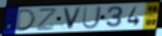3: (105, 6, 125, 29)
4: (126, 5, 141, 27)
D: (15, 8, 38, 32)
U: (82, 5, 103, 30)
V: (62, 6, 84, 31)
Z: (36, 7, 59, 32)
